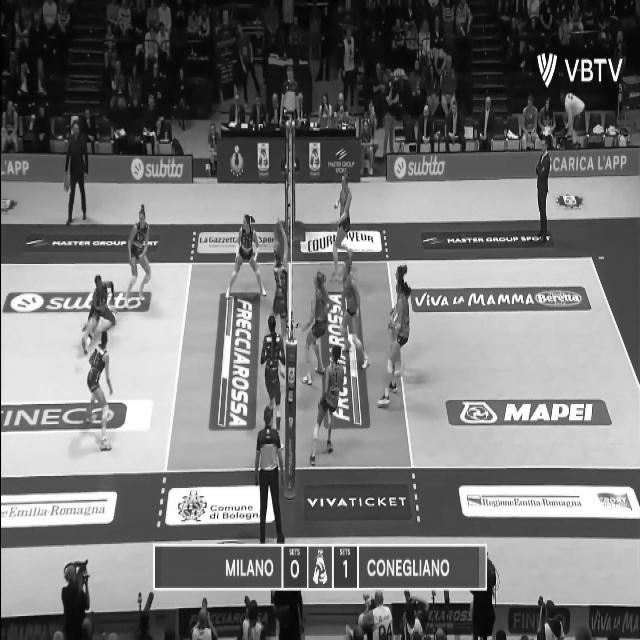volleyball court: (1, 254, 638, 480)
